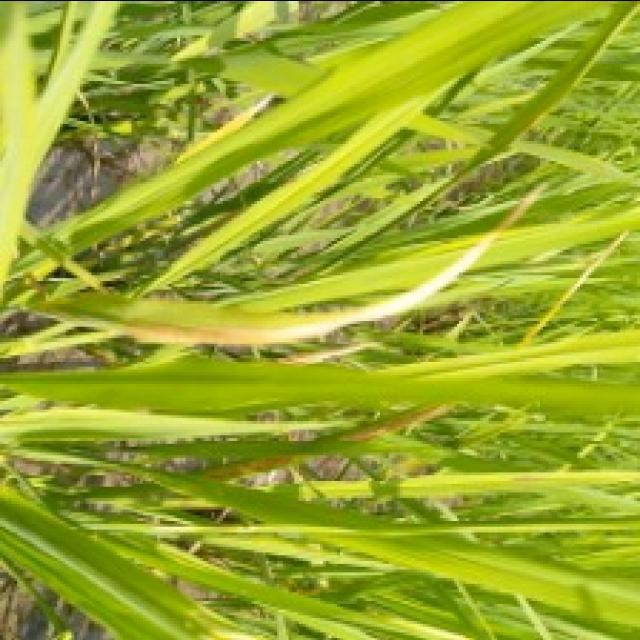Unhealthy: (62, 180, 544, 345), (339, 404, 456, 441), (208, 455, 290, 480)
